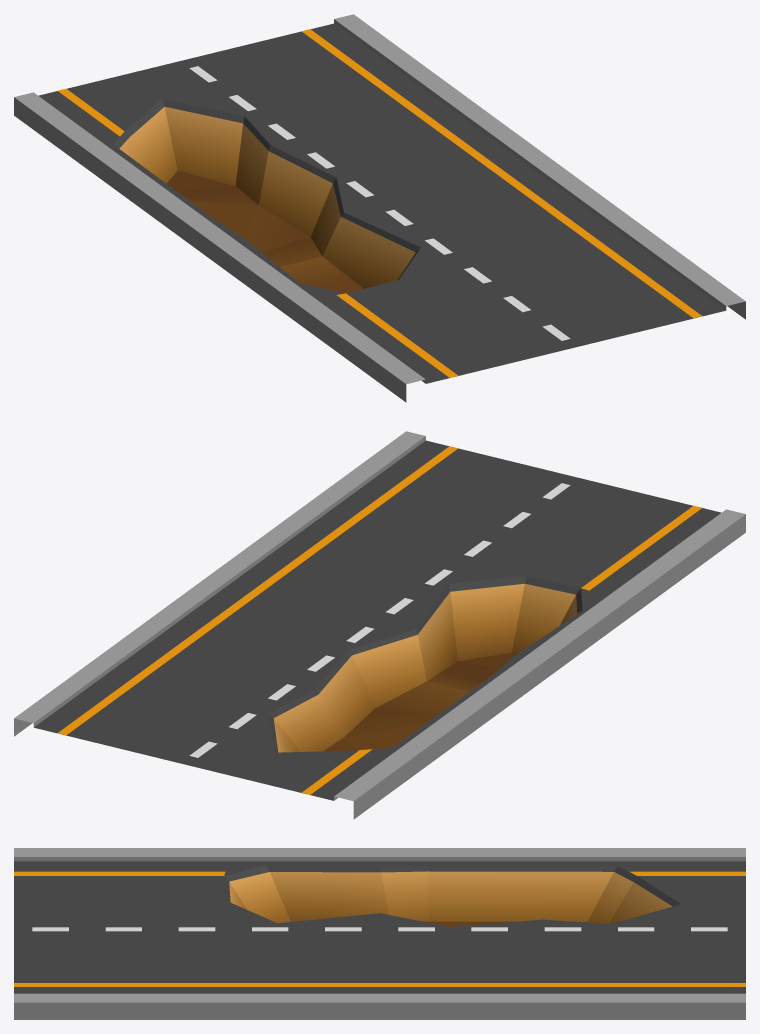
The model's file is Road_A_3.glb.
3 renders of one model, top to bottom at view 1: azimuth 30°, elevation 25°; view 2: azimuth 150°, elevation 25°; view 3: azimuth 270°, elevation 25°, orthographic. The views are drawn at different scales.
Parts seen in each view (by area): view 1: Road_A_3; view 2: Road_A_3; view 3: Road_A_3.
Boxes of the visible parts, x1,y1,x2,y2 form: Road_A_3: (14, 14, 745, 402); Road_A_3: (14, 431, 745, 819); Road_A_3: (14, 848, 745, 1019).
Bounding box in the file's own units: 8 × 1.47 × 16.
1 material, 1 textured.
